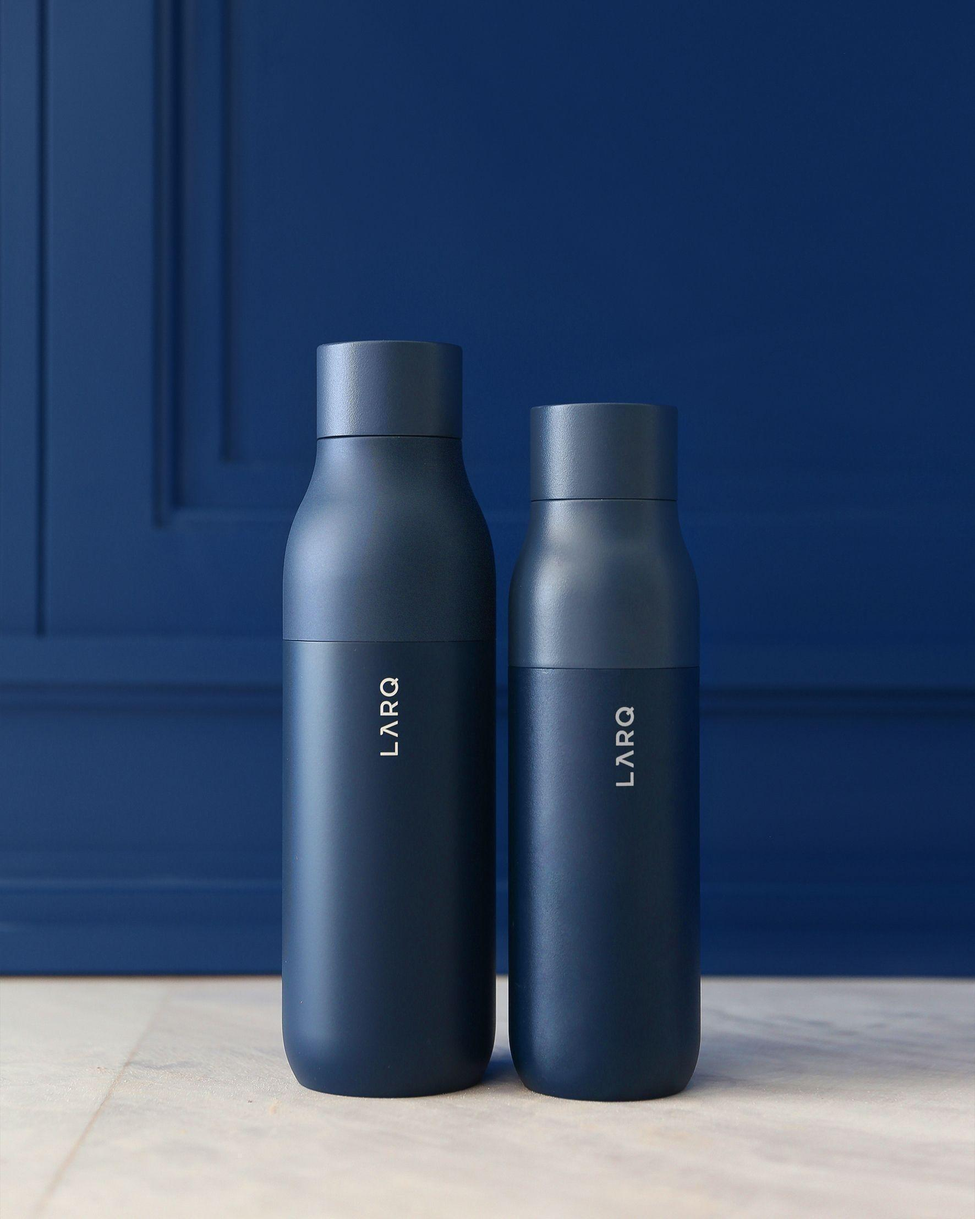gym bottle: (271, 332, 505, 1103), (496, 394, 711, 1101)
